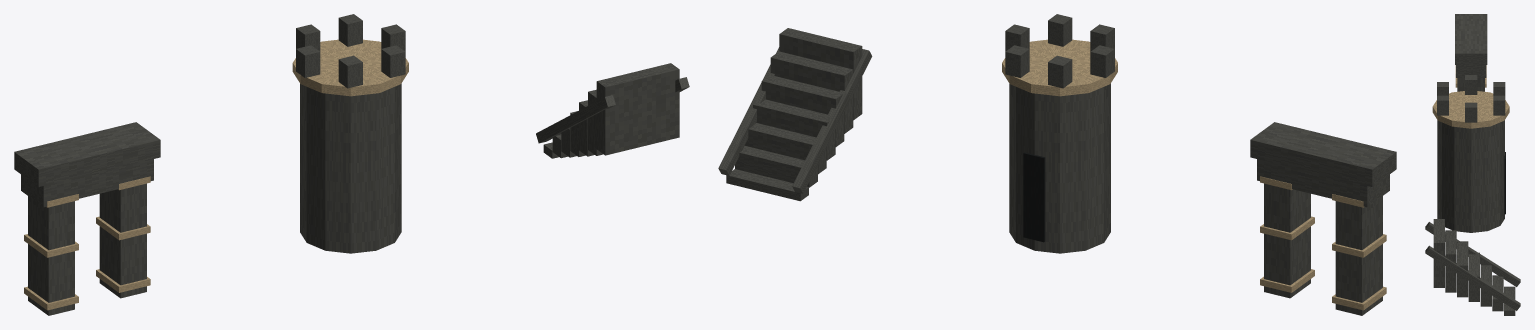
File: KIT_crown_citadel_approach.gltf
3 renders of one model, left to right at view 1: azimuth 30°, elevation 25°; view 2: azimuth 150°, elevation 25°; view 3: azimuth 270°, elevation 25°, orthographic. The views are drawn at different scales.
Parts seen in each view (by area): view 1: 02_tower, 01_arch, 03_stairs; view 2: 02_tower, 01_arch, 03_stairs; view 3: 02_tower, 03_stairs, 01_arch.
Boxes of the visible parts, x1,y1,x2,y2 form: 02_tower: (292,14,408,253); 01_arch: (14,122,160,315); 03_stairs: (536,63,689,158); 02_tower: (1002,14,1117,253); 01_arch: (1250,122,1396,315); 03_stairs: (718,28,872,201); 02_tower: (1432,75,1509,232); 03_stairs: (1425,219,1520,315); 01_arch: (1455,14,1487,91).
Size of the model in its own units: 13.13 by 3.84 by 2.61.
3 materials, 3 textured.
